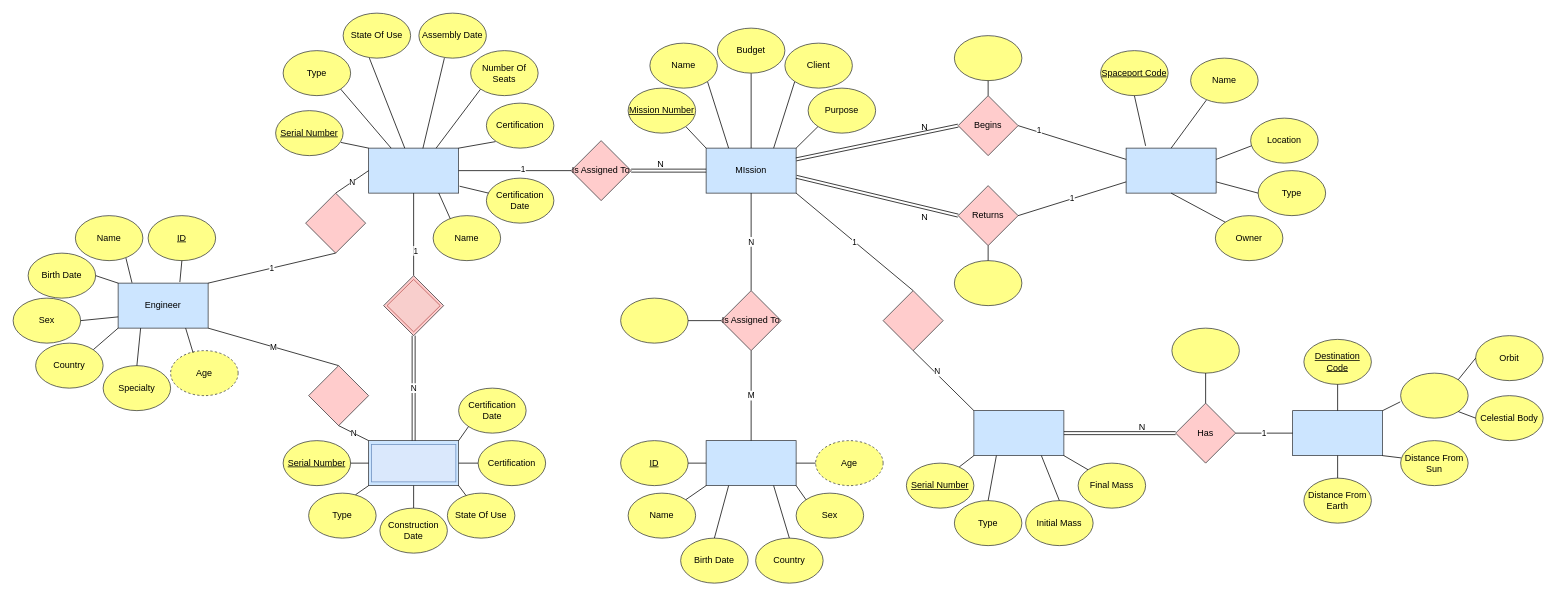
Some shapes in this 1556 by 596 pixel diagram are drawn without their labels. The centre of each missing label's shape, as x and y in pixels:
Astronaut: point 750,463
Carries: point 912,320
Certifies: point 335,222
Consists Of: point 413,305
Destination Type: point 1434,395
Final Destination: point 1337,433
Launch Date: point 988,58
Payload: point 1018,433
Payload Release Date: point 1205,350
Return Date: point 988,283
Role: point 654,320
Spaceport: point 1170,170
Spaceship: point 413,170
Spaceship's Part: point 413,463
Works Οn: point 338,395
